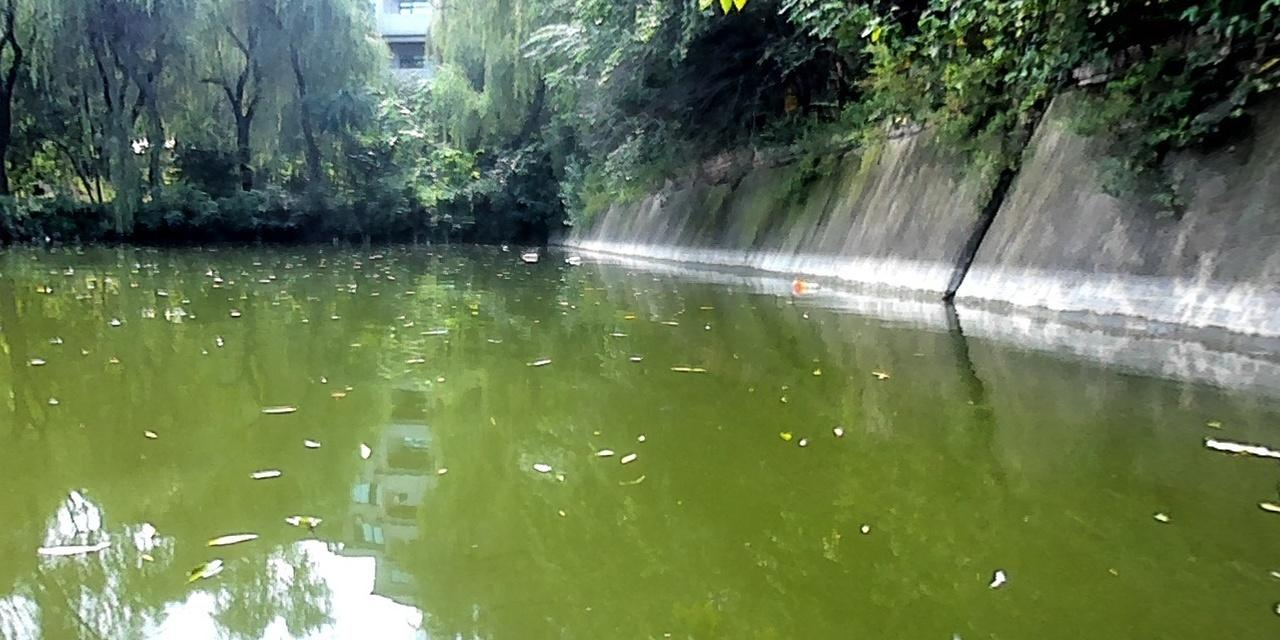bottle: (785, 274, 825, 292), (517, 249, 540, 260), (559, 253, 580, 262)
